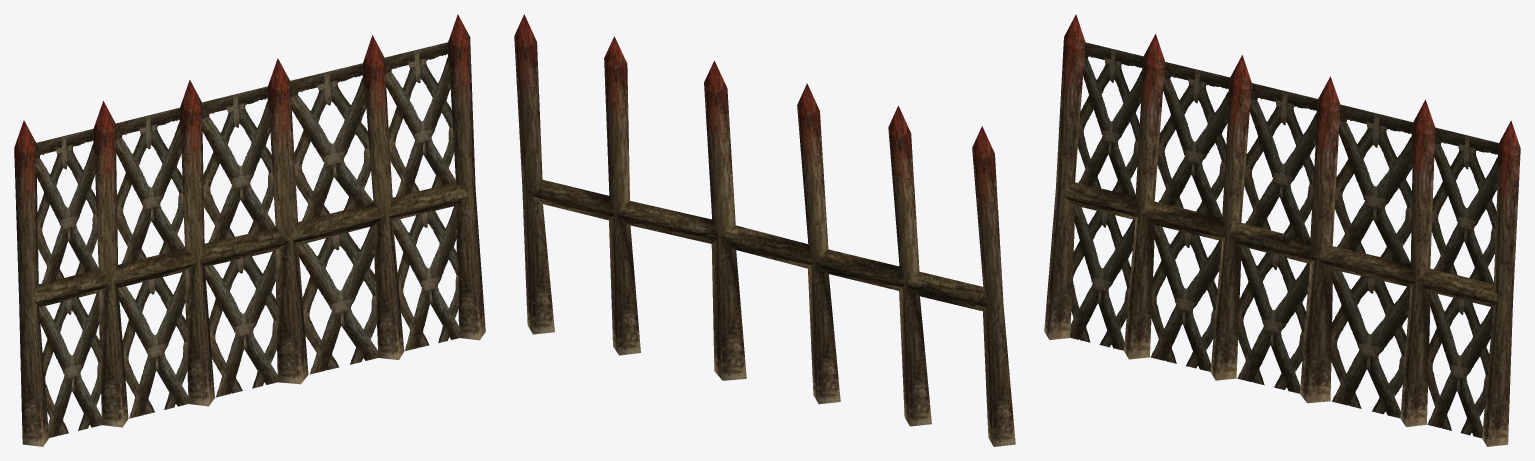
Rendered from togui_door02.glb.
3 renders of one model, left to right at view 1: azimuth 30°, elevation 25°; view 2: azimuth 150°, elevation 25°; view 3: azimuth 330°, elevation 25°, orthographic. The views are drawn at different scales.
Visible parts, largest first — view 1: res\dun\property\togui\togui_door02.bsr; view 2: res\dun\property\togui\togui_door02.bsr; view 3: res\dun\property\togui\togui_door02.bsr.
Boxes of the visible parts, <box> form: res\dun\property\togui\togui_door02.bsr: <box>14,14,485,446</box>; res\dun\property\togui\togui_door02.bsr: <box>514,14,1015,446</box>; res\dun\property\togui\togui_door02.bsr: <box>1044,14,1520,446</box>.
Bounding box in the file's own units: 218 × 139 × 23.02.
Materials: 2 (2 with a texture image).
